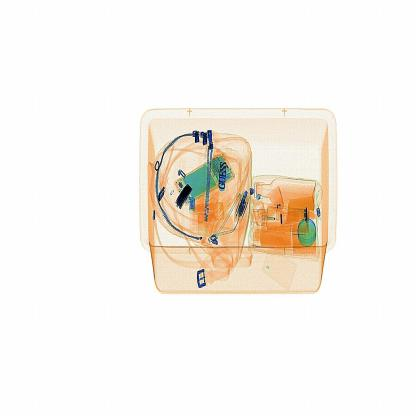scissors: (173, 182, 196, 211)
